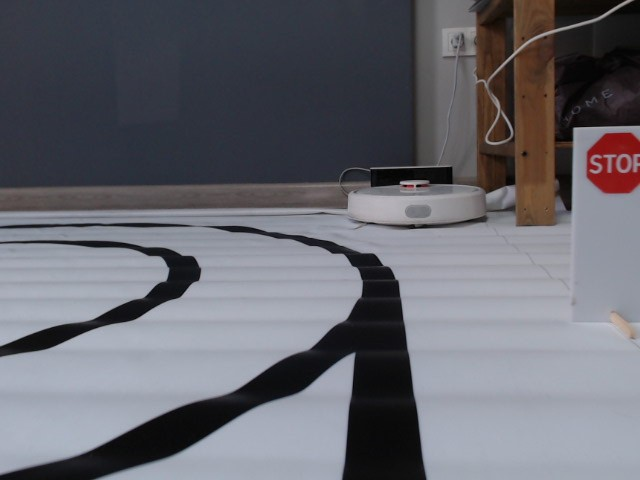Stop: (584, 131, 640, 196)
